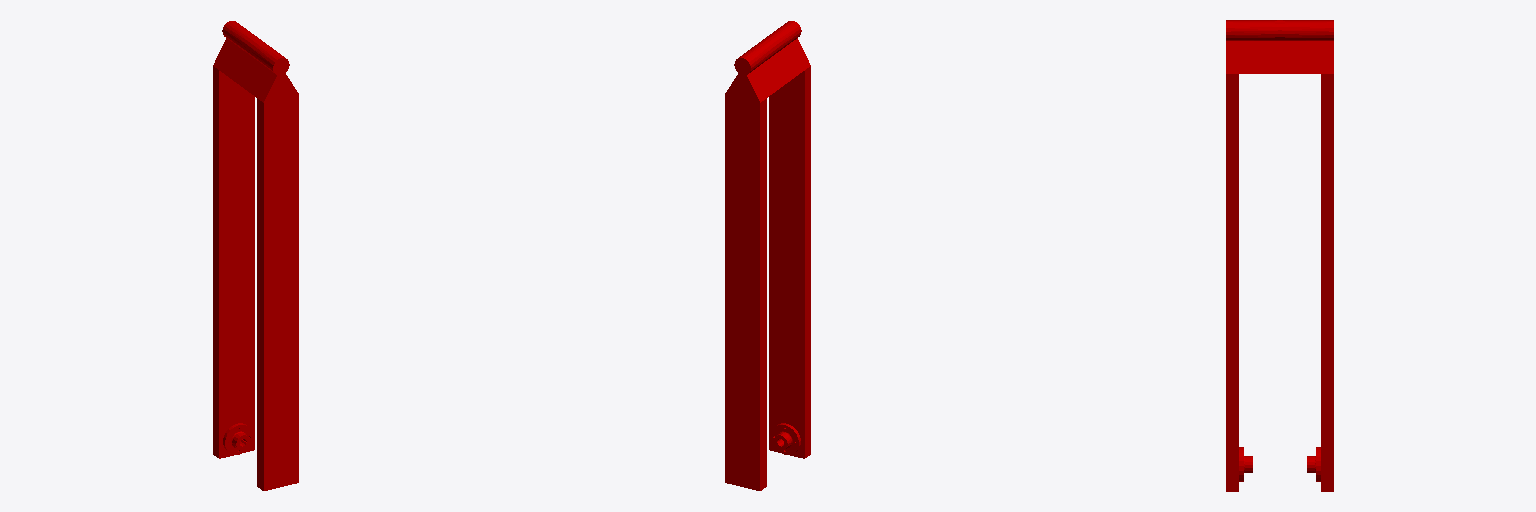
robot.urdf — acrobot:
<?xml version="1.0" encoding="utf-8"?>
<!-- =================================================================================== -->
<!-- |    This document was autogenerated by xacro from models/acrobot.xacro           | -->
<!-- |    EDITING THIS FILE BY HAND IS NOT RECOMMENDED                                 | -->
<!-- =================================================================================== -->
<robot name="acrobot">
  <link name="base_link"/>
  <link name="leg1">
    <inertial>
      <mass value="256.815e-3"/>
      <origin rpy="0 0 0" xyz="89.16e-3 0 0"/>
      <inertia ixx="6.16e-5" ixy="0.0" ixz="0.0" iyy="3.46e-3" iyz="0.0" izz="3.48e-3"/>
    </inertial>
    <visual name="visual">
      <origin rpy="0 0 0" xyz="0 0 0"/>
      <geometry>
        <mesh filename="package://acrobot_description/meshes/leg1.stl" scale="1 1 1"/>
      </geometry>
      <material name="blue">
        <color rgba="0 0 0.8 1"/>
      </material>
    </visual>
  </link>
  <link name="leg2">
    <inertial>
      <mass value="166.44e-3"/>
      <origin rpy="0 0 0" xyz="-183.44e-3 0 0"/>
      <inertia ixx="1.94e-4" ixy="0" ixz="0" iyy="2.17e-3" iyz="0" izz="2.34e-3"/>
    </inertial>
    <visual name="visual">
      <origin rpy="0 0 0" xyz="0 0 0"/>
      <geometry>
        <mesh filename="package://acrobot_description/meshes/leg2.stl" scale="1 1 1"/>
      </geometry>
      <material name="red">
        <color rgba="0.8 0 0 1"/>
      </material>
    </visual>
  </link>
  <joint name="base_link" type="fixed">
    <parent link="base_link"/>
    <child link="leg1"/>
    <origin rpy="0 1.5707964 0" xyz="0 0 0.354"/>
  </joint>
  <joint name="joint" type="revolute">
    <parent link="leg1"/>
    <child link="leg2"/>
    <origin rpy="0 0 0" xyz="0 0 0"/>
    <axis xyz="0 1 0"/>
    <dynamics damping="0.02" friction="0.05"/>
    <limit effort="0.22" lower="-3.078760944" upper="3.078760944" velocity="1.8"/>
  </joint>
</robot>

--- Render facts (derived) ---
The picture shows the robot from 3 angles, left to right: view 1: azimuth 30°, elevation 25°; view 2: azimuth 150°, elevation 25°; view 3: azimuth 270°, elevation 25°; orthographic projection.
Robot: acrobot — 3 links, 2 joints (1 revolute, 1 fixed); root link base_link; default pose: all joints at 0.
Links seen in each view (by area): view 1: leg2; view 2: leg2; view 3: leg2.
Boxes of the visible links, bbox=[...] form: leg2: bbox=[213, 21, 298, 490]; leg2: bbox=[725, 21, 810, 490]; leg2: bbox=[1226, 20, 1333, 491].
Bounding box of the posed robot: 0.032 × 0.0796 × 0.3712 m (x, y, z).
1 mesh visuals loaded from 2 distinct referenced files (1 ASCII STL); not drawn: 1 (file found but could not be loaded).